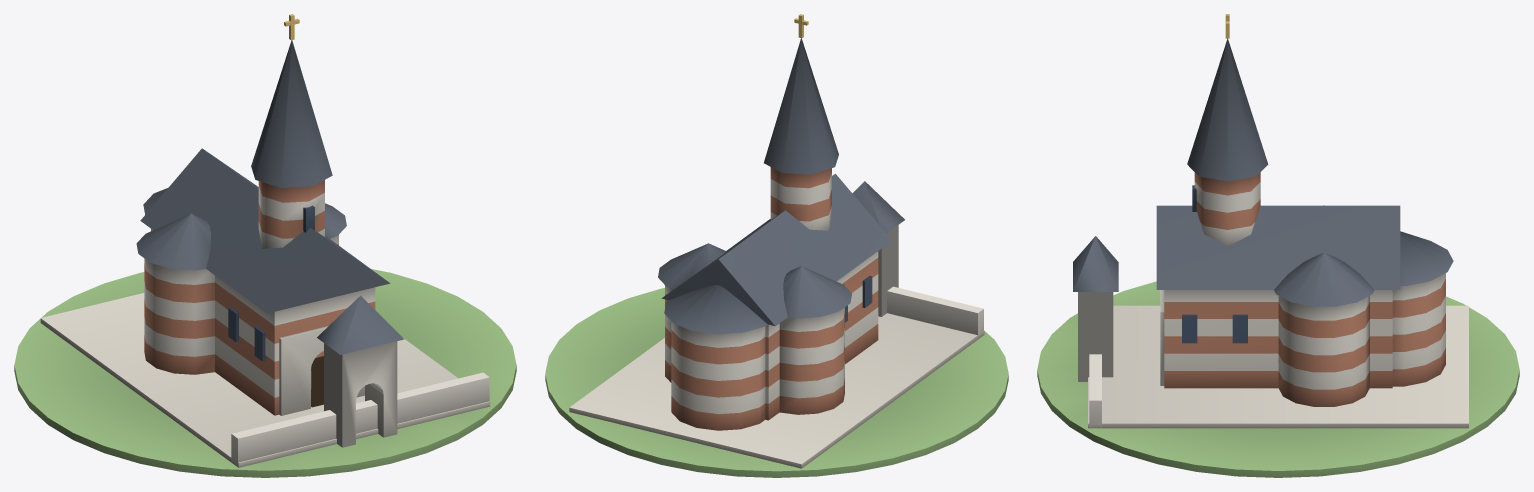
The model's file is pitesti.glb.
3 views of the same model, side by side, from view 1: azimuth 30°, elevation 25°; view 2: azimuth 150°, elevation 25°; view 3: azimuth 270°, elevation 25° (orthographic). The views are drawn at different scales.
Visible parts, largest first — view 1: pitesti_grass, pitesti_roofDark, pitesti_plaster, pitesti_stoneLight, pitesti_brick, pitesti_window, pitesti_woodDark; view 2: pitesti_grass, pitesti_roofDark, pitesti_stoneLight, pitesti_plaster, pitesti_brick; view 3: pitesti_roofDark, pitesti_grass, pitesti_stoneLight, pitesti_plaster, pitesti_brick, pitesti_window.
Boxes of the visible parts, box(x1,y1,x2,y2) form: pitesti_grass: box(14, 269, 516, 477); pitesti_roofDark: box(136, 40, 404, 354); pitesti_plaster: box(144, 185, 489, 466); pitesti_stoneLight: box(40, 293, 490, 467); pitesti_brick: box(144, 180, 375, 415); pitesti_window: box(228, 205, 314, 361); pitesti_woodDark: box(311, 356, 323, 407); pitesti_grass: box(545, 288, 1008, 477); pitesti_roofDark: box(658, 38, 904, 334); pitesti_stoneLight: box(569, 313, 984, 468); pitesti_plaster: box(665, 173, 983, 414); pitesti_brick: box(665, 167, 878, 430); pitesti_roofDark: box(1073, 38, 1453, 306); pitesti_grass: box(1037, 281, 1519, 477); pitesti_stoneLight: box(1088, 305, 1468, 428); pitesti_plaster: box(1078, 182, 1445, 427); pitesti_brick: box(1164, 172, 1445, 406); pitesti_window: box(1182, 185, 1247, 343).
Bounding box in the file's own units: 1.9 × 1.57 × 1.9.
